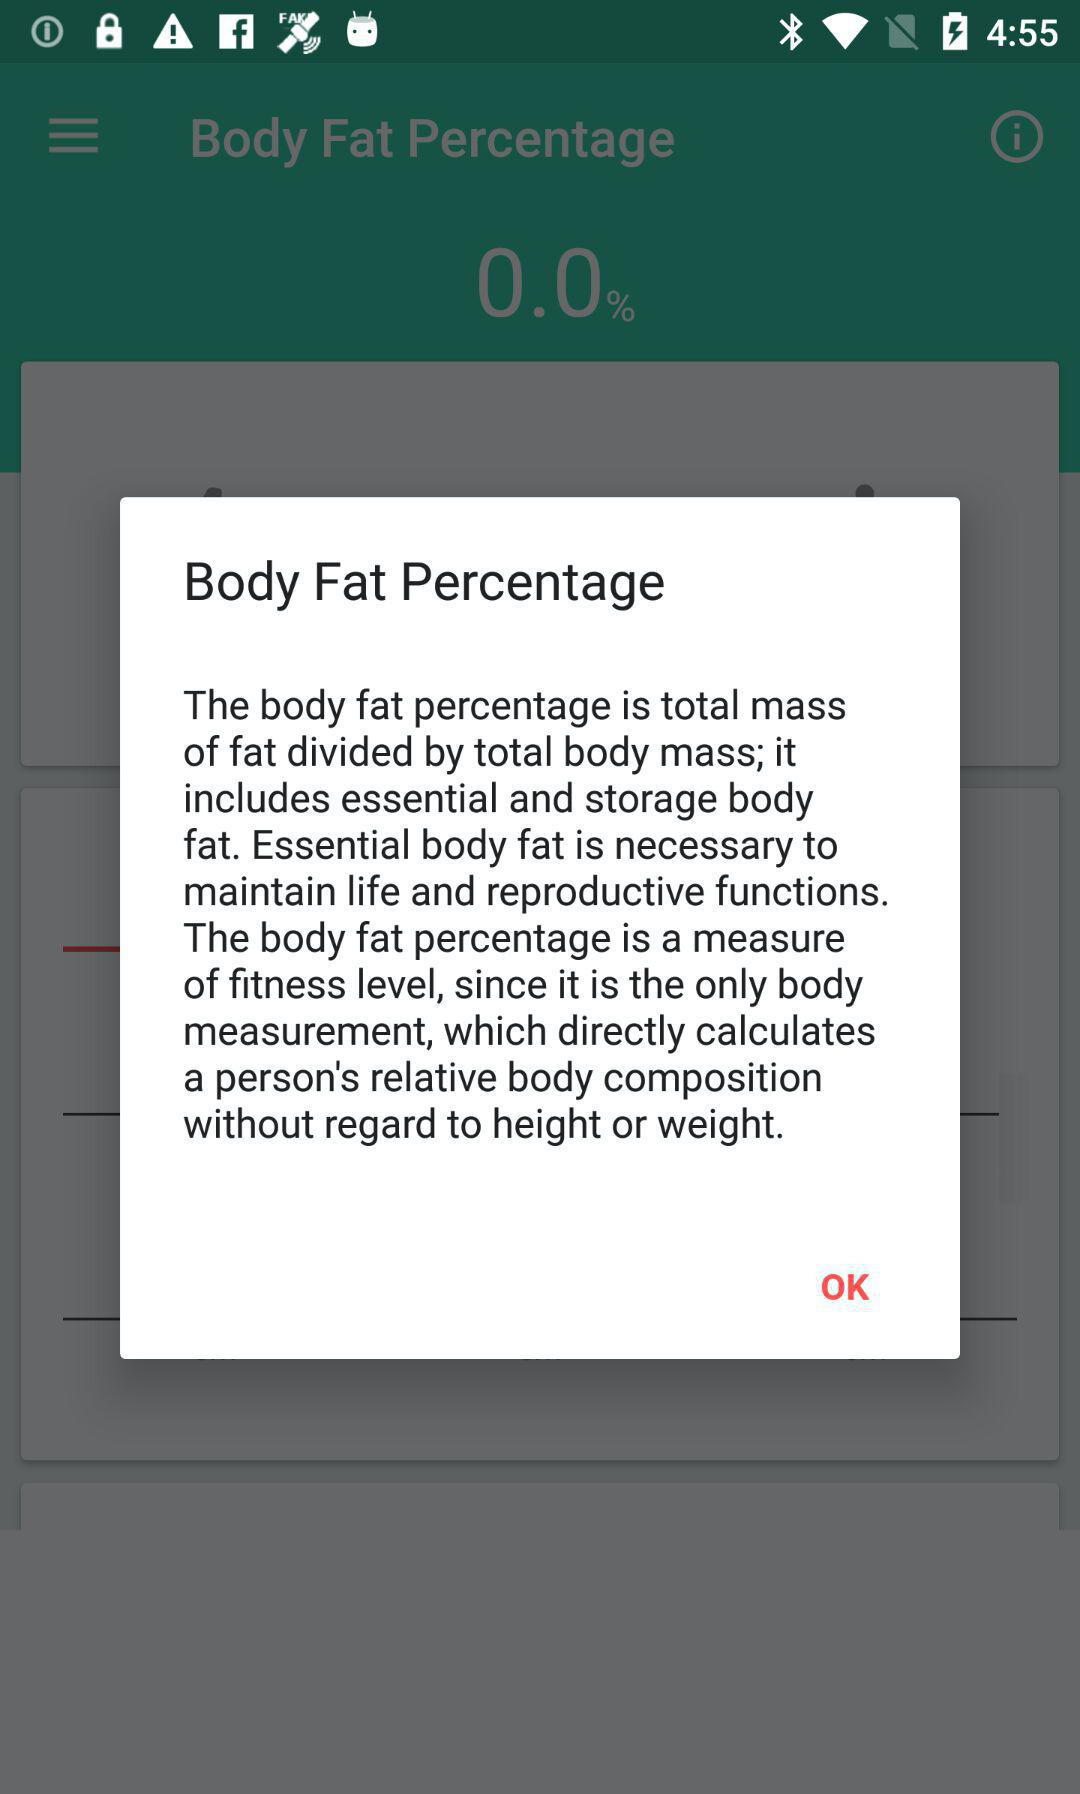Icon: (989, 109, 1044, 167), (49, 118, 101, 158)
Modal: (120, 497, 961, 1360)
Text: (183, 686, 889, 1148), (186, 559, 666, 613), (191, 120, 676, 170), (478, 247, 635, 325), (821, 1272, 872, 1302)
UpperTaskBar: (1, 1, 1080, 64)
